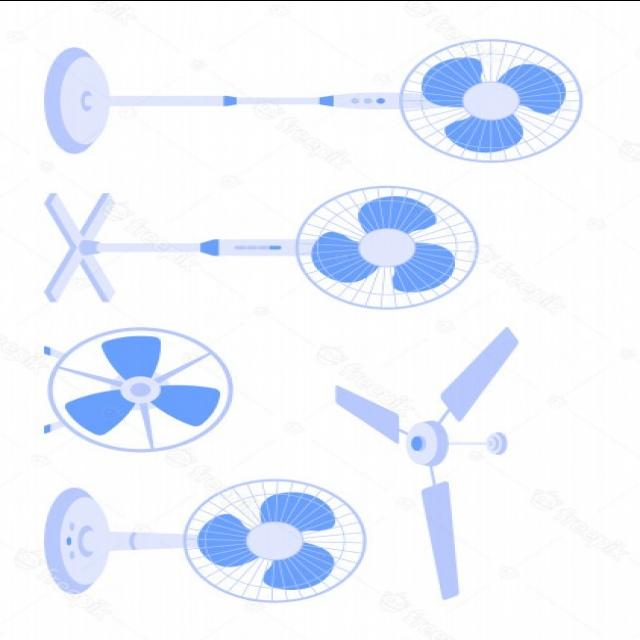fan: (44, 41, 588, 605)
